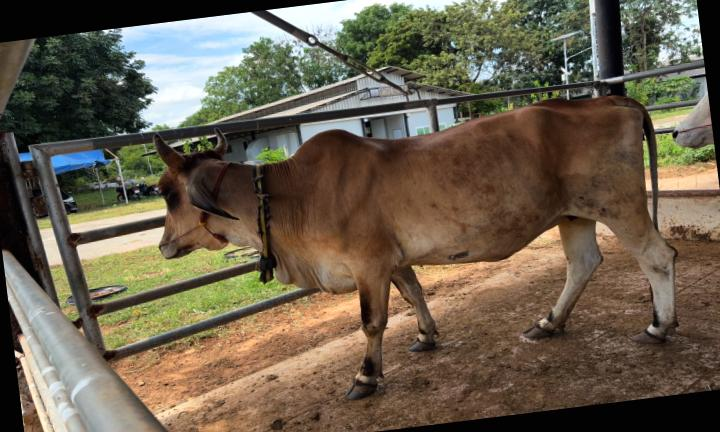Brahman: (153, 96, 677, 398)
